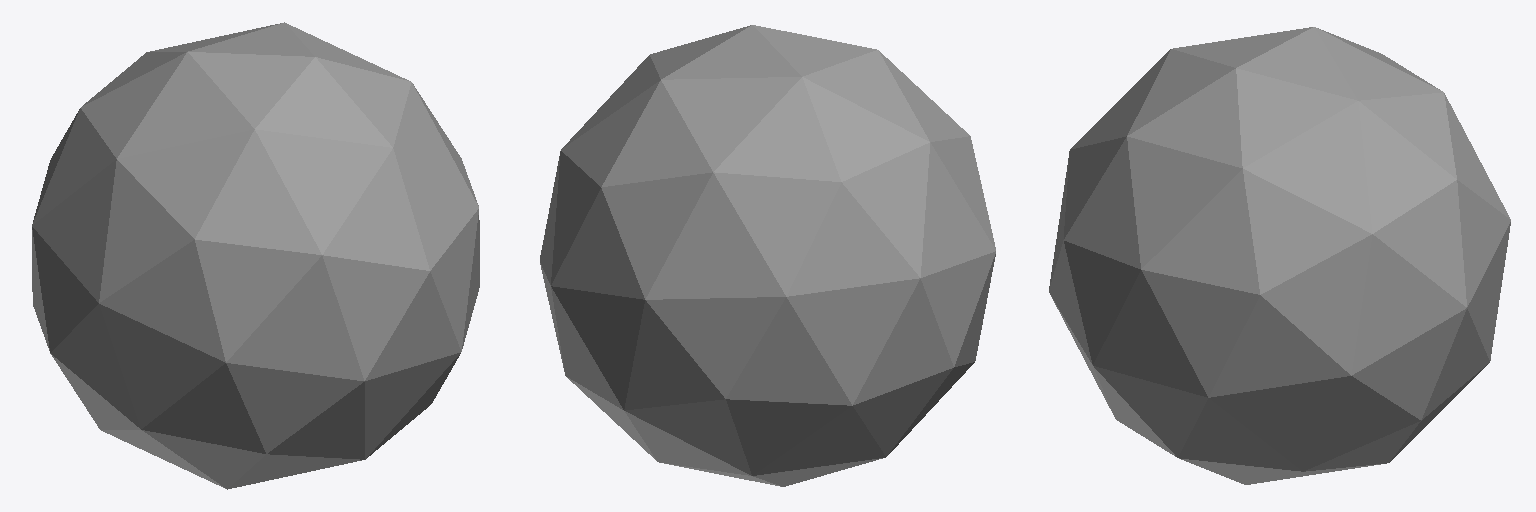
Rendered from asteroid.obj.
The picture shows the model from 3 angles: view 1: azimuth 30°, elevation 25°; view 2: azimuth 150°, elevation 25°; view 3: azimuth 270°, elevation 25°; orthographic projection.
Parts seen in each view (by area): view 1: Icosphere; view 2: Icosphere; view 3: Icosphere.
Part boxes in pixels (left/top/right/bottom): Icosphere: left=32, top=22, right=479, bottom=489; Icosphere: left=540, top=25, right=995, bottom=486; Icosphere: left=1049, top=27, right=1510, bottom=484.
Size of the model in its own units: 1.92 by 1.93 by 1.97.